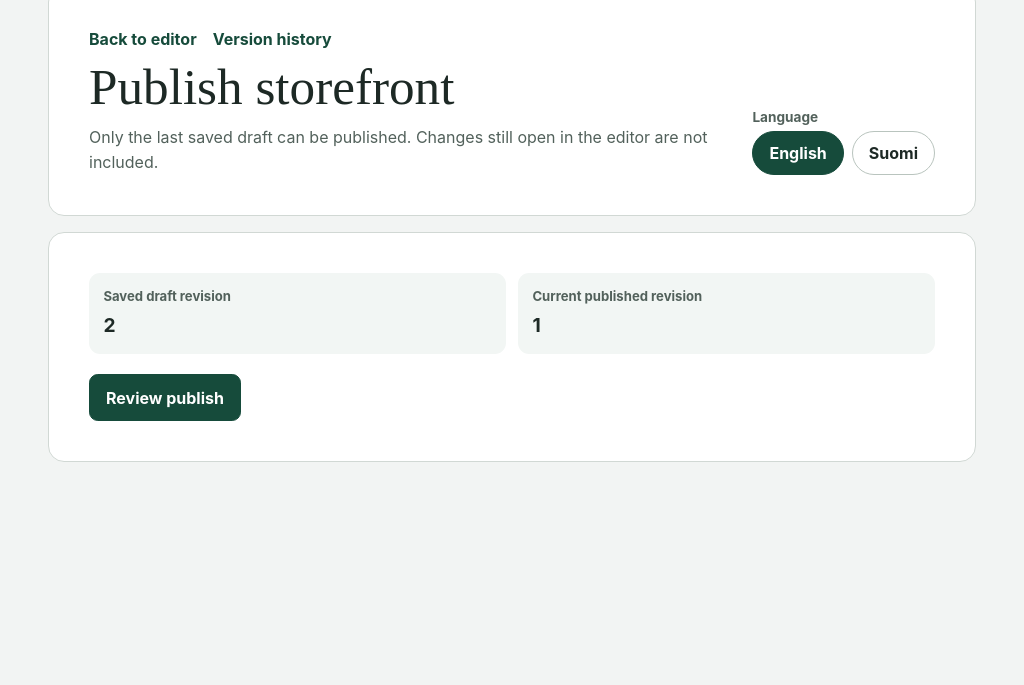
Test: P2-12 publish confirmation route › blocks a stale confirmation and lets the merchant review the latest saved draft
This screenshot has width=1024, height=685.
Click the button "Review publish": (165, 398) [89,374,241,421]
(page scrolled)
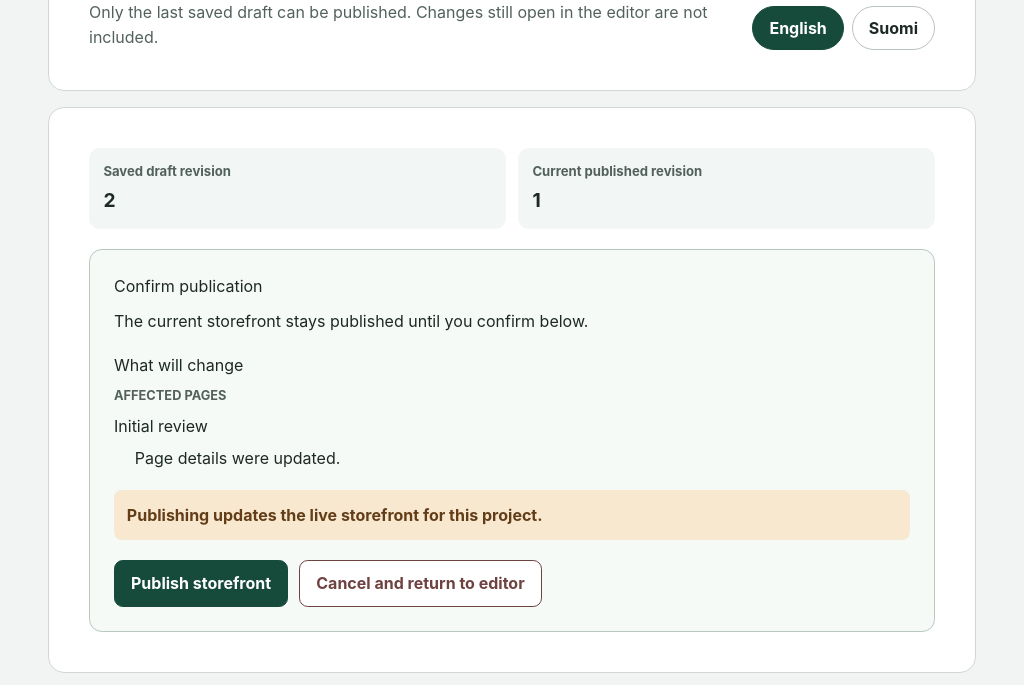
Now the heading "Confirm publication" is shown, box [114,276,263,296]
Click the button "Publish storefront": (201, 583) [114,560,288,607]
(page scrolled)
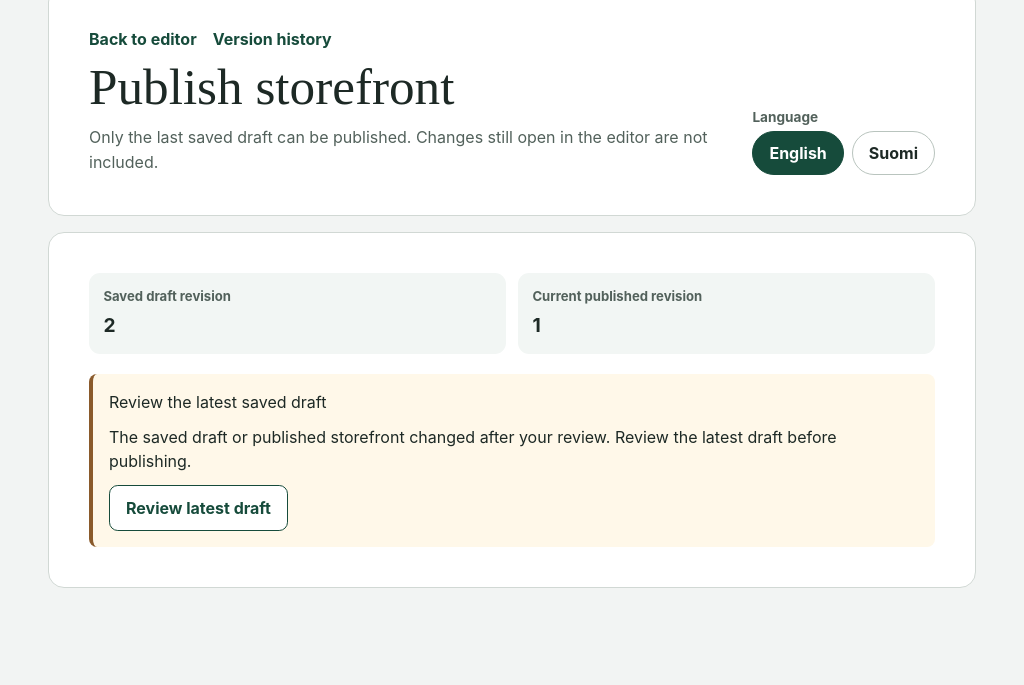
Now the text "changed after your review" is shown, box [109,427,837,471]
Click the button "Review latest draft": (198, 508) [109,485,288,531]
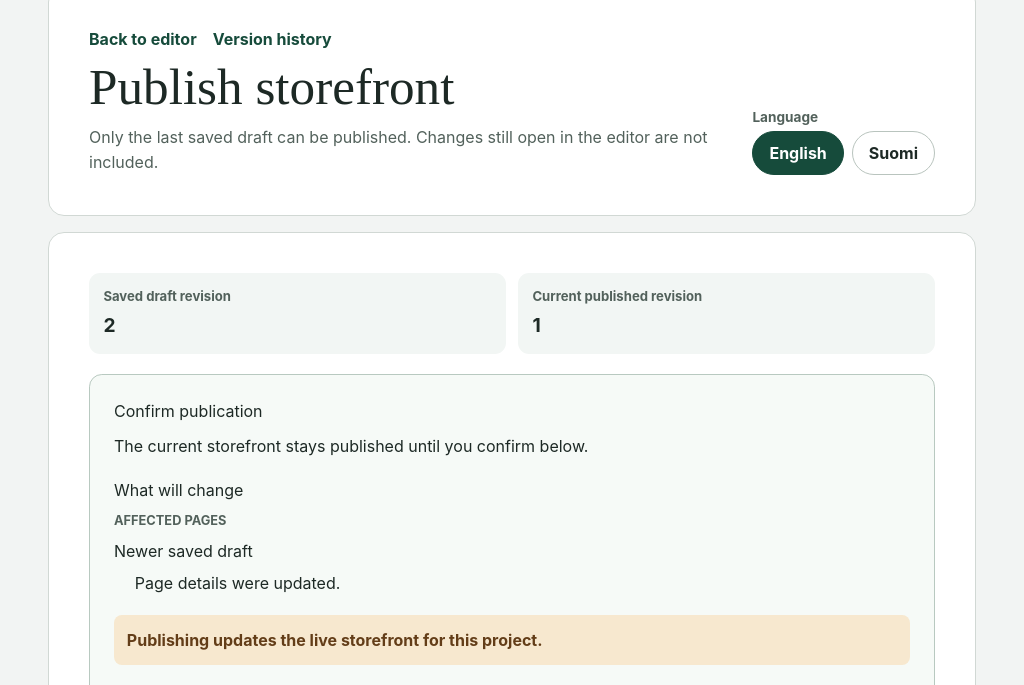
Now the text "Newer saved draft" is shown, box [114,541,253,561]
Now the heading "Confirm publication" is shown, box [114,401,263,421]
